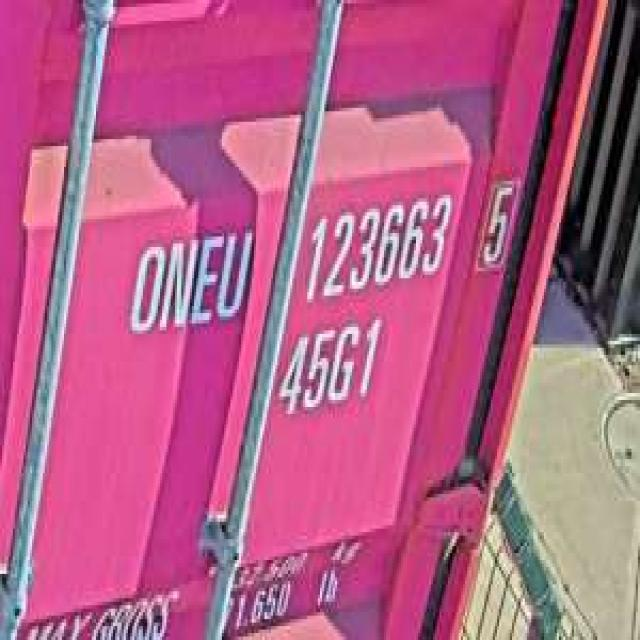dv: (478, 170, 514, 272)
owner: (124, 223, 256, 334)
serial: (301, 188, 454, 306)
size: (280, 313, 388, 414)
